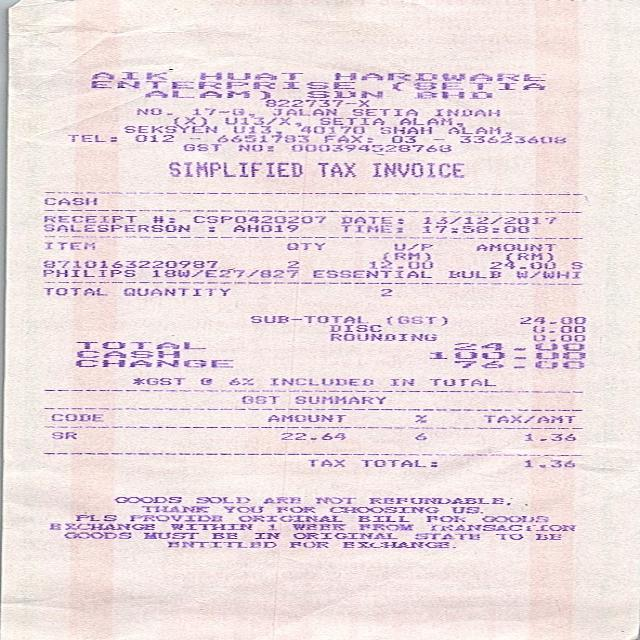text: (167, 162, 301, 176), (331, 72, 544, 80), (41, 259, 216, 268), (42, 223, 214, 232), (150, 267, 296, 277), (74, 358, 232, 367), (370, 162, 462, 177), (288, 144, 453, 152), (366, 496, 511, 505), (388, 82, 542, 90), (430, 351, 584, 359), (143, 89, 275, 98), (75, 340, 200, 349), (420, 216, 555, 224), (190, 215, 324, 223), (452, 342, 582, 350), (328, 332, 435, 341), (72, 349, 178, 358), (292, 395, 386, 405), (309, 270, 426, 278), (249, 315, 366, 323), (480, 414, 573, 424), (199, 71, 301, 80), (340, 540, 454, 548), (452, 361, 582, 368), (166, 540, 275, 548), (420, 225, 528, 233), (430, 524, 574, 530), (457, 135, 564, 143), (46, 522, 152, 530), (268, 377, 372, 385), (236, 514, 340, 522), (292, 531, 396, 539), (41, 268, 133, 277), (262, 99, 372, 106), (213, 134, 309, 142), (122, 125, 215, 133), (122, 288, 228, 295), (261, 413, 343, 422), (358, 458, 436, 467), (306, 89, 382, 98), (327, 506, 438, 512), (42, 215, 136, 222), (169, 522, 251, 530), (398, 116, 462, 126), (474, 243, 554, 251), (275, 431, 346, 440), (89, 71, 167, 79), (412, 90, 490, 98), (316, 161, 354, 177), (385, 316, 445, 326), (350, 107, 416, 116), (428, 377, 494, 386), (292, 125, 364, 133), (232, 223, 296, 232), (128, 515, 221, 521), (522, 458, 577, 468), (112, 495, 180, 503), (41, 196, 100, 205), (432, 108, 498, 116), (488, 261, 554, 269), (412, 532, 478, 540), (323, 323, 381, 332), (41, 287, 106, 295), (514, 270, 578, 278), (221, 117, 292, 124), (521, 432, 576, 441), (139, 505, 208, 512), (446, 126, 505, 134), (271, 108, 338, 115), (62, 531, 129, 538), (378, 125, 430, 134), (518, 316, 584, 323), (380, 251, 431, 260), (191, 108, 248, 116), (367, 261, 432, 268), (318, 117, 382, 124), (46, 413, 102, 421), (339, 216, 402, 223), (339, 225, 401, 232), (446, 270, 500, 278), (530, 334, 584, 342), (194, 495, 248, 503), (131, 377, 183, 385), (356, 514, 408, 522), (480, 516, 547, 522), (322, 134, 372, 142), (356, 523, 412, 530), (67, 134, 115, 142), (514, 252, 552, 262), (530, 325, 584, 332), (306, 458, 344, 467), (45, 242, 93, 249), (141, 532, 197, 538), (286, 540, 327, 548), (173, 116, 209, 125), (290, 524, 344, 530), (284, 242, 324, 250), (237, 395, 277, 403), (74, 513, 114, 521), (424, 514, 464, 522), (133, 134, 172, 142), (181, 143, 220, 151), (392, 242, 431, 250), (232, 125, 270, 133), (135, 107, 171, 115), (313, 496, 354, 503), (273, 505, 314, 512), (221, 505, 262, 512), (260, 496, 299, 503), (236, 144, 272, 151), (50, 431, 78, 440), (493, 532, 522, 540), (448, 506, 481, 513), (225, 377, 251, 385), (534, 532, 559, 540), (204, 222, 218, 236), (390, 135, 414, 143), (151, 215, 173, 223), (388, 378, 412, 385), (252, 532, 278, 538), (210, 532, 236, 538), (410, 414, 426, 423), (410, 432, 428, 439), (378, 288, 391, 296), (284, 260, 296, 268), (199, 377, 210, 385), (570, 261, 580, 269), (266, 524, 275, 530)
